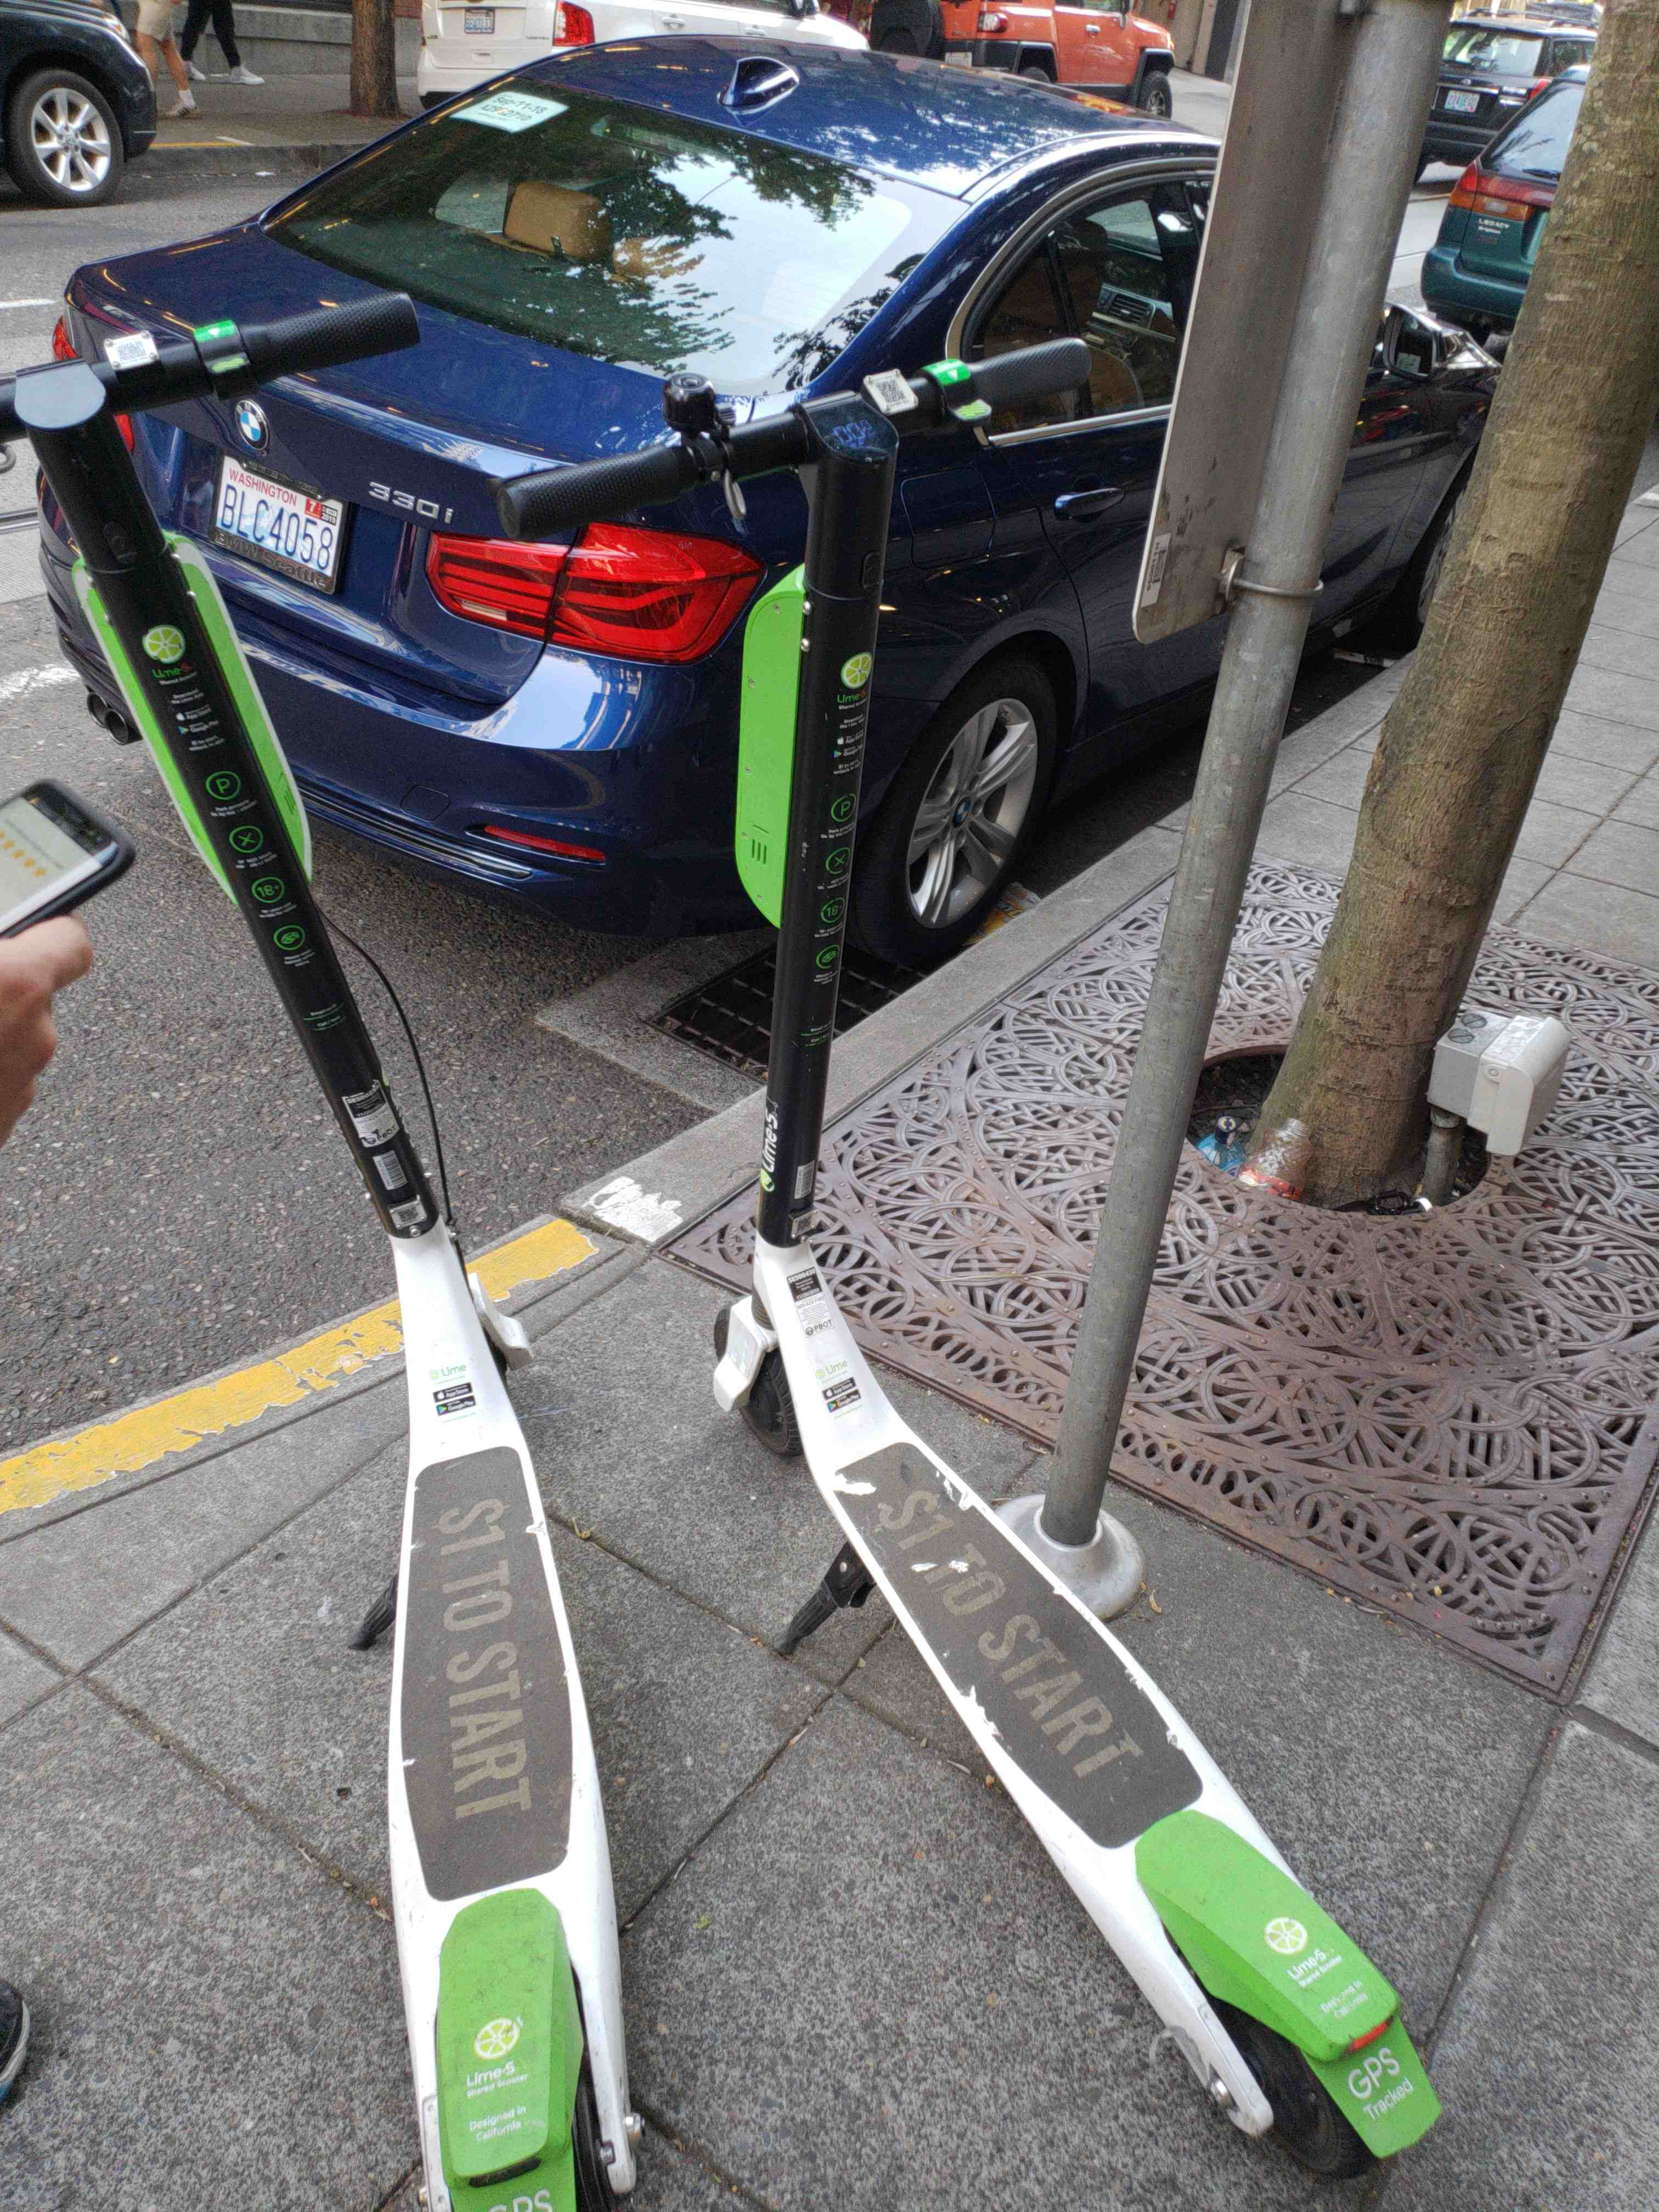scooter: (460, 300, 1473, 2182)
